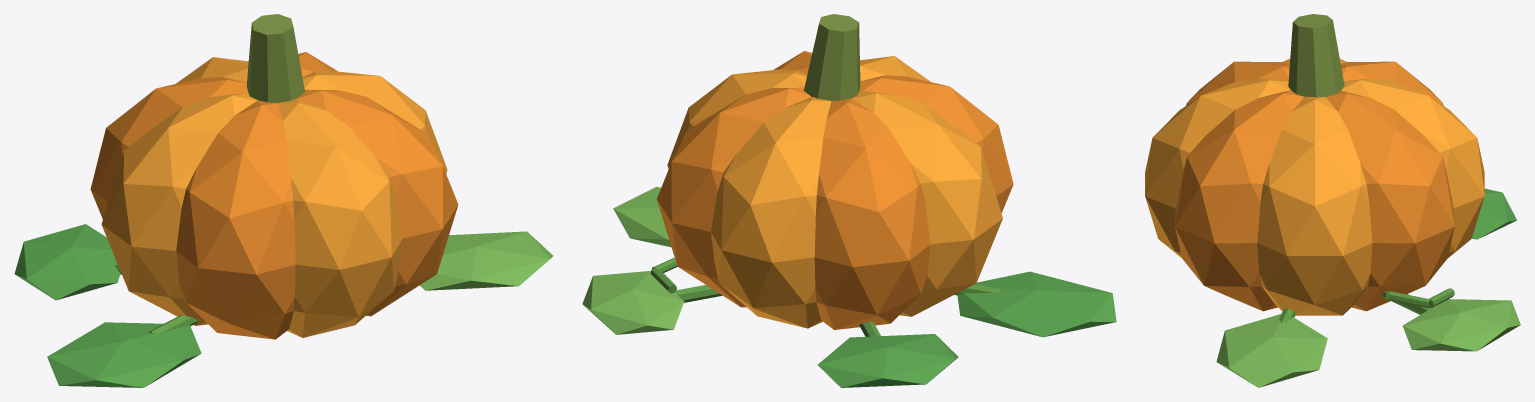
The model's file is Pumpkin.glb.
3 views of the same model, side by side, from view 1: azimuth 30°, elevation 25°; view 2: azimuth 150°, elevation 25°; view 3: azimuth 270°, elevation 25° (orthographic). The views are drawn at different scales.
Parts seen in each view (by area): view 1: FTF_Plant_Pumpkin_Mature_Mesh; view 2: FTF_Plant_Pumpkin_Mature_Mesh; view 3: FTF_Plant_Pumpkin_Mature_Mesh.
Boxes of the visible parts, x1=… form: FTF_Plant_Pumpkin_Mature_Mesh: x1=14, y1=14, x2=553, y2=387; FTF_Plant_Pumpkin_Mature_Mesh: x1=582, y1=14, x2=1116, y2=387; FTF_Plant_Pumpkin_Mature_Mesh: x1=1145, y1=14, x2=1520, y2=387.
Bounding box in the file's own units: 2.02 × 1.11 × 1.41.
